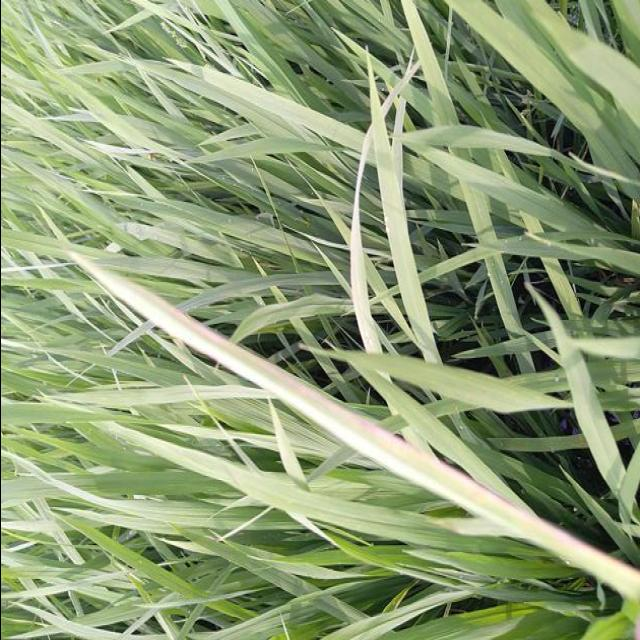Leaf Blight: (72, 255, 640, 598)
